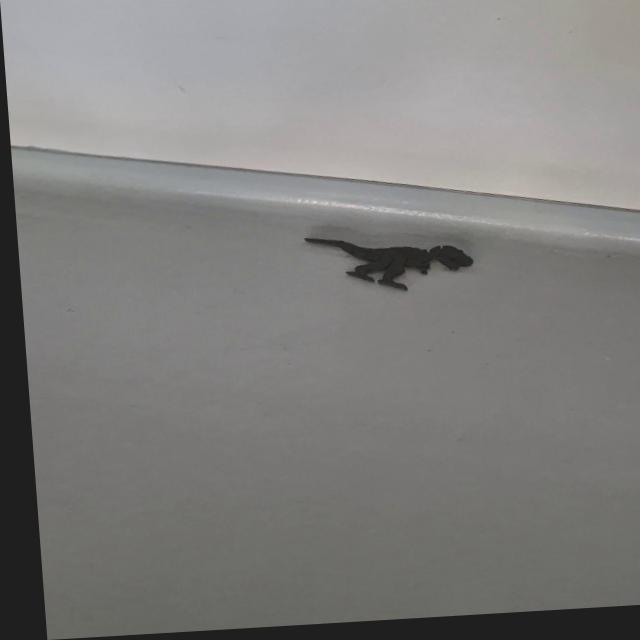dino: (303, 228, 476, 297)
